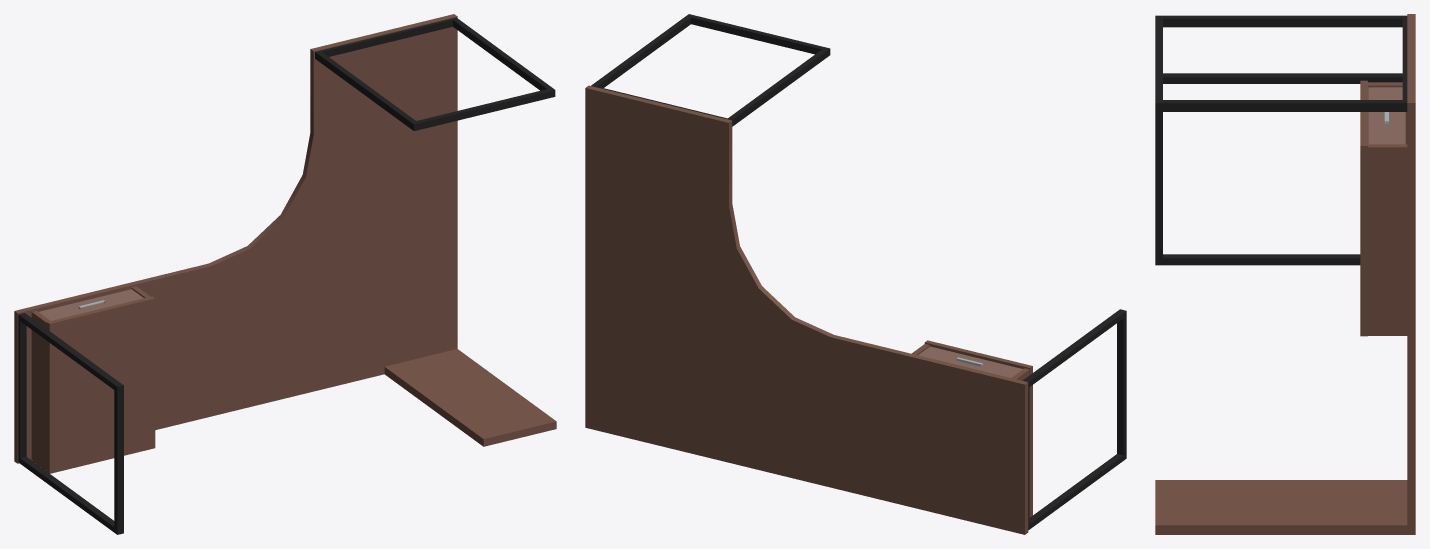
File: meeting-table.glb
The picture shows the model from 3 angles, left to right: view 1: azimuth 30°, elevation 25°; view 2: azimuth 150°, elevation 25°; view 3: azimuth 270°, elevation 25°; orthographic projection. The views are drawn at different scales.
Visible parts, largest first — view 1: office_table_031; view 2: office_table_031; view 3: office_table_031.
Part boxes in pixels (x1,y1,x2,y2): office_table_031: [14, 14, 556, 534]; office_table_031: [585, 14, 1126, 534]; office_table_031: [1155, 14, 1415, 534].
Size of the model in its own units: 1.92 by 1.42 by 0.7738.
Materials: 1 (1 with a texture image).
